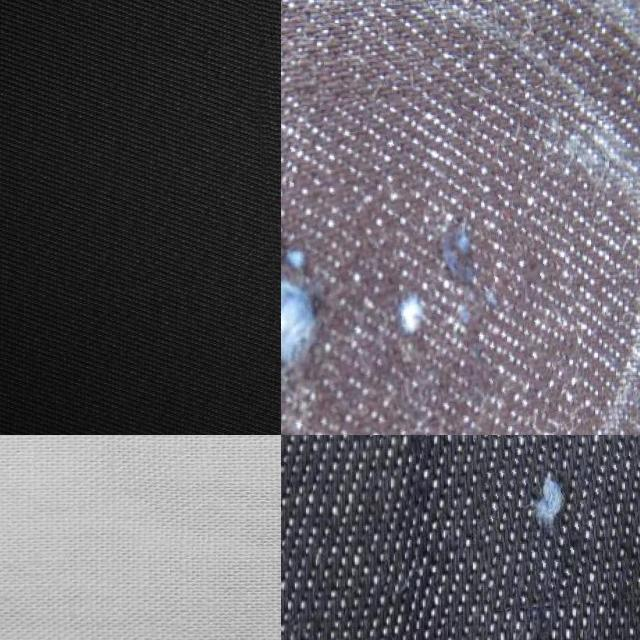stains: (281, 95, 580, 435), (476, 435, 640, 607)
